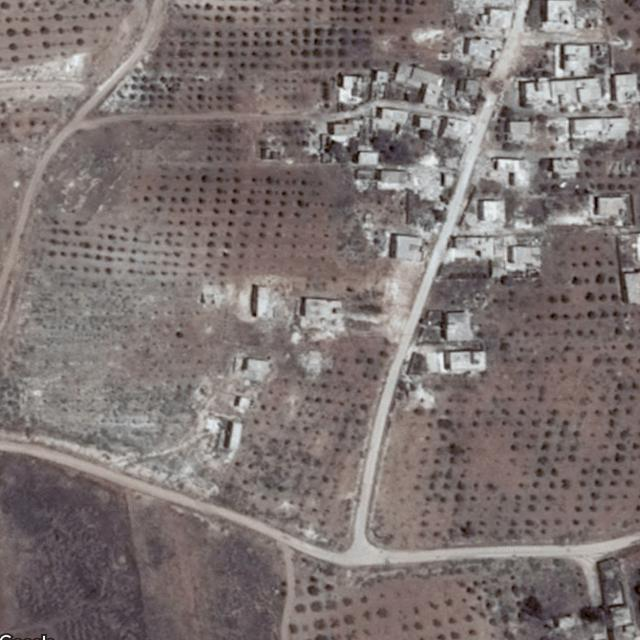damaged_building: (294, 291, 345, 333), (408, 167, 441, 230), (464, 190, 509, 232), (294, 347, 333, 382), (571, 6, 605, 32)
